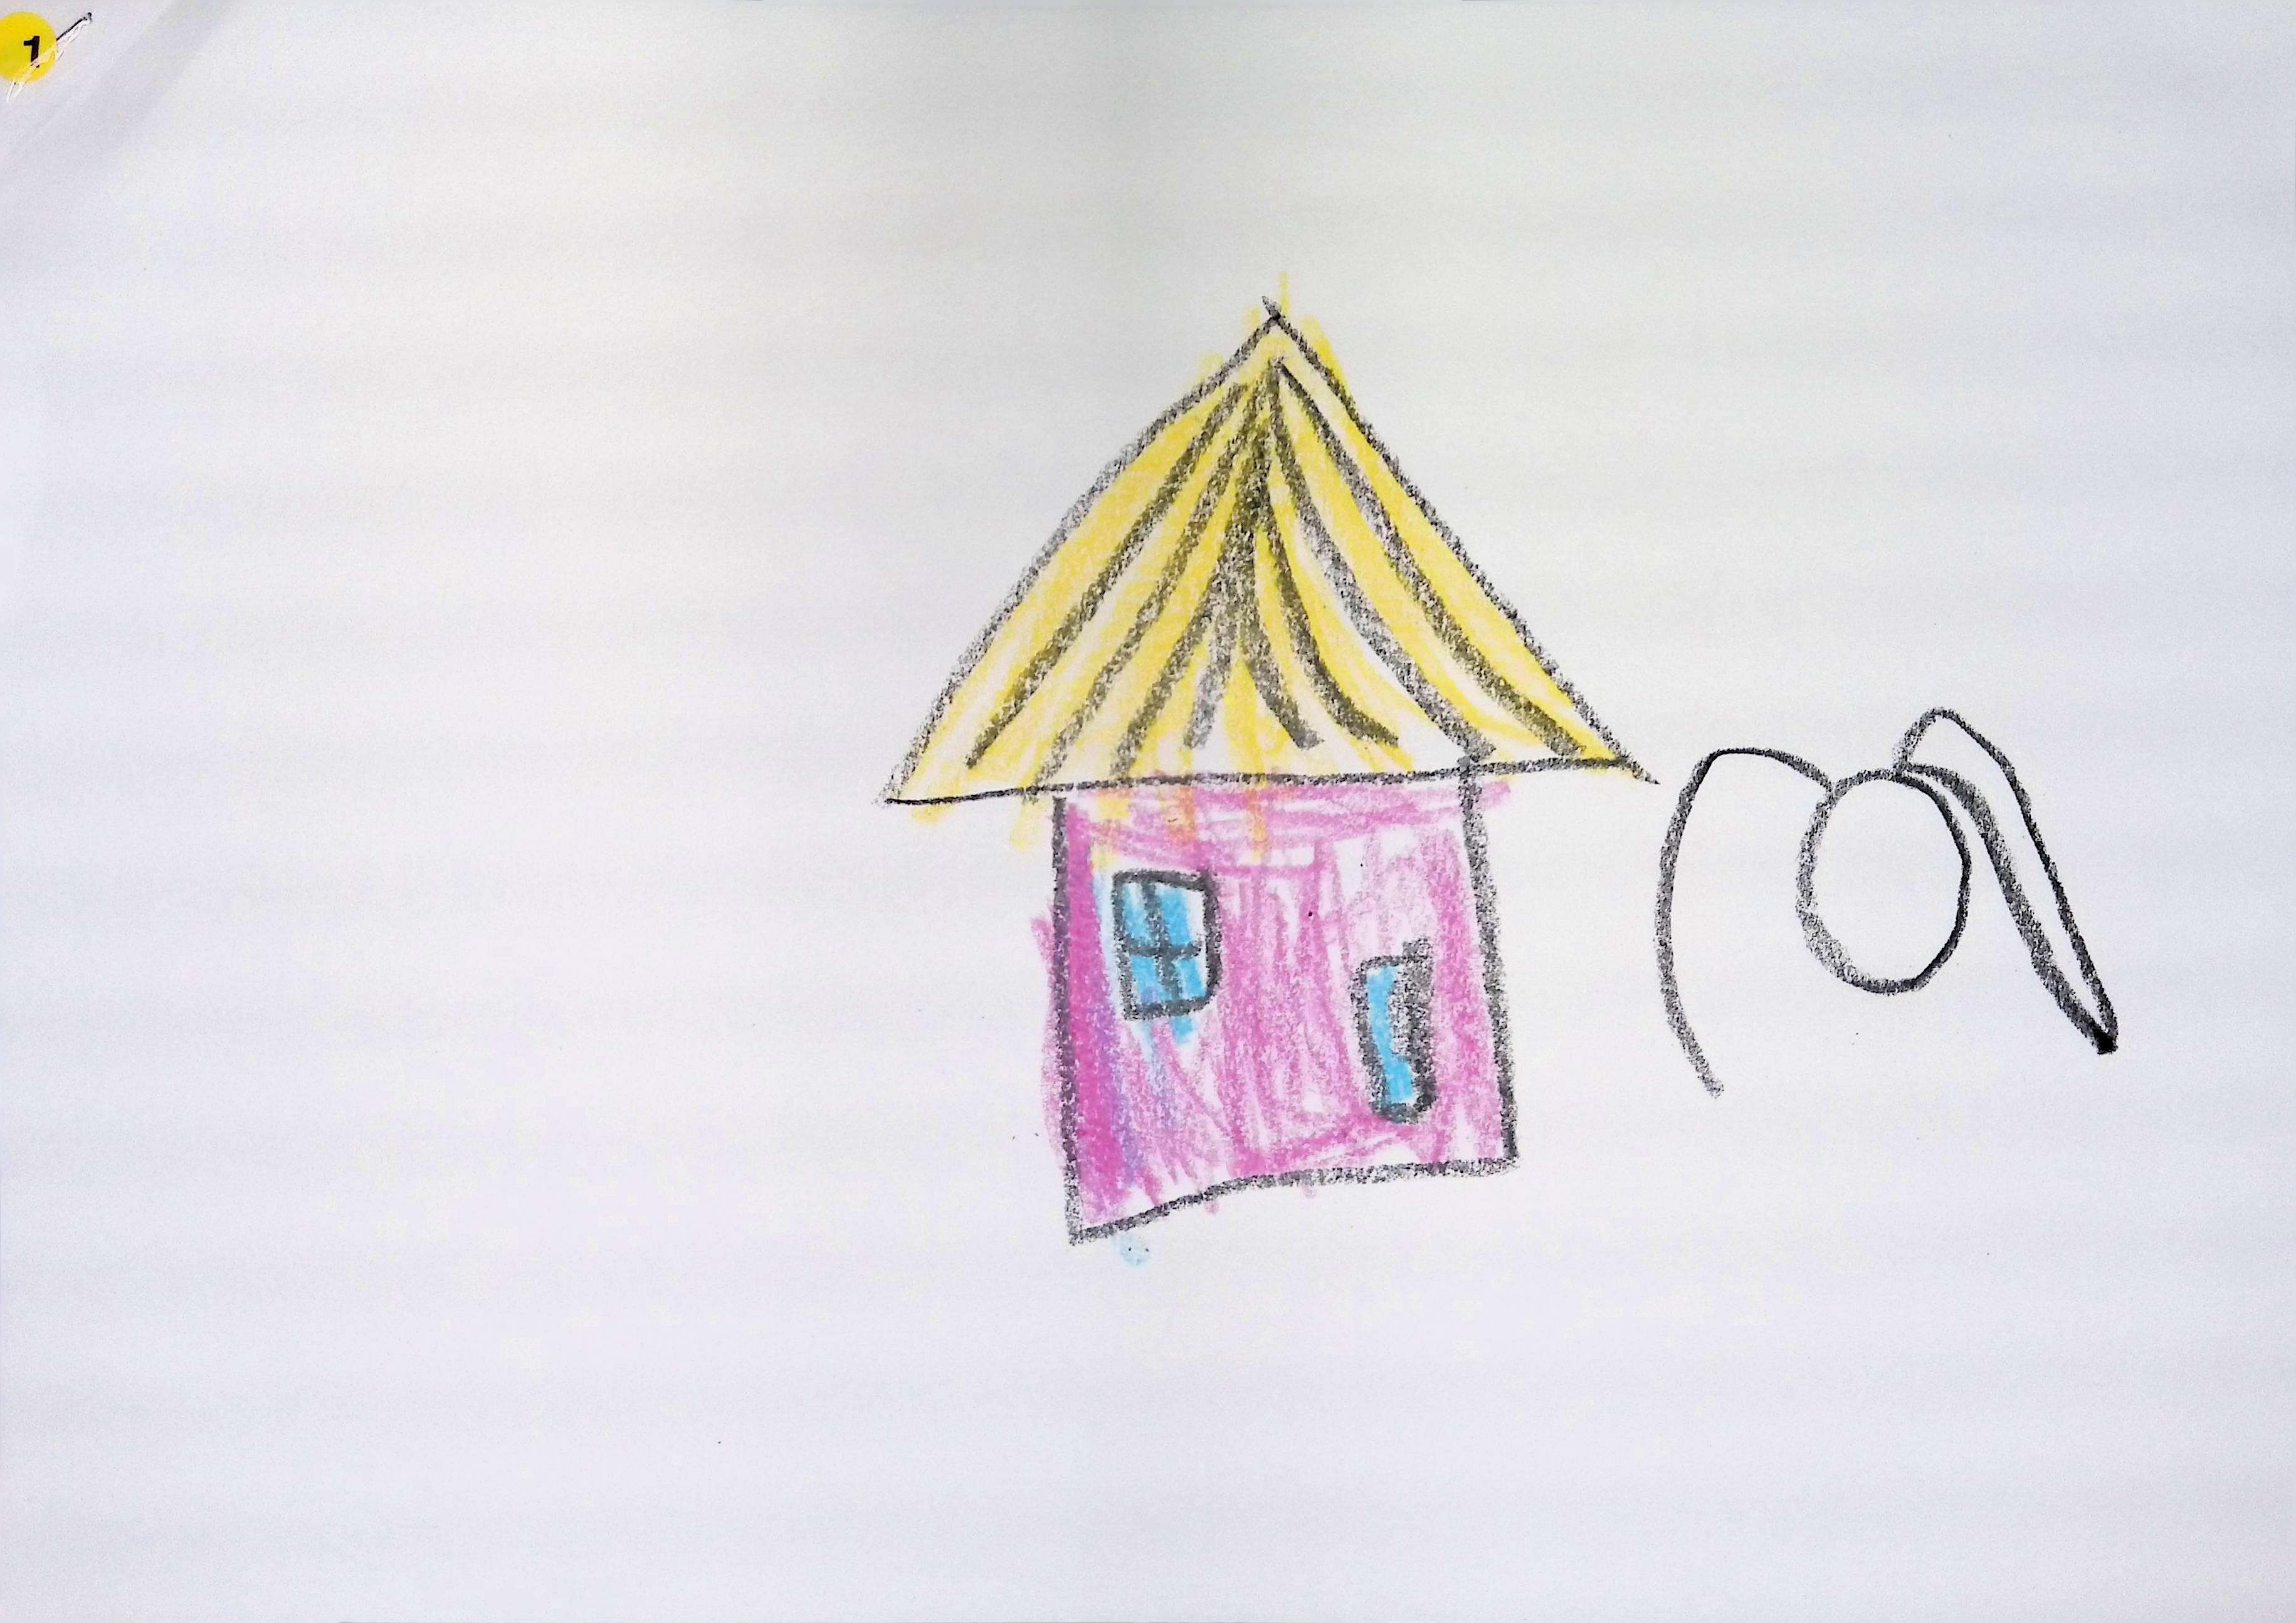door: (1353, 938, 1437, 1124)
house: (884, 302, 1643, 1240)
roof: (882, 299, 1650, 801)
wall: (1043, 778, 1518, 1238)
window: (1114, 869, 1219, 1019)
